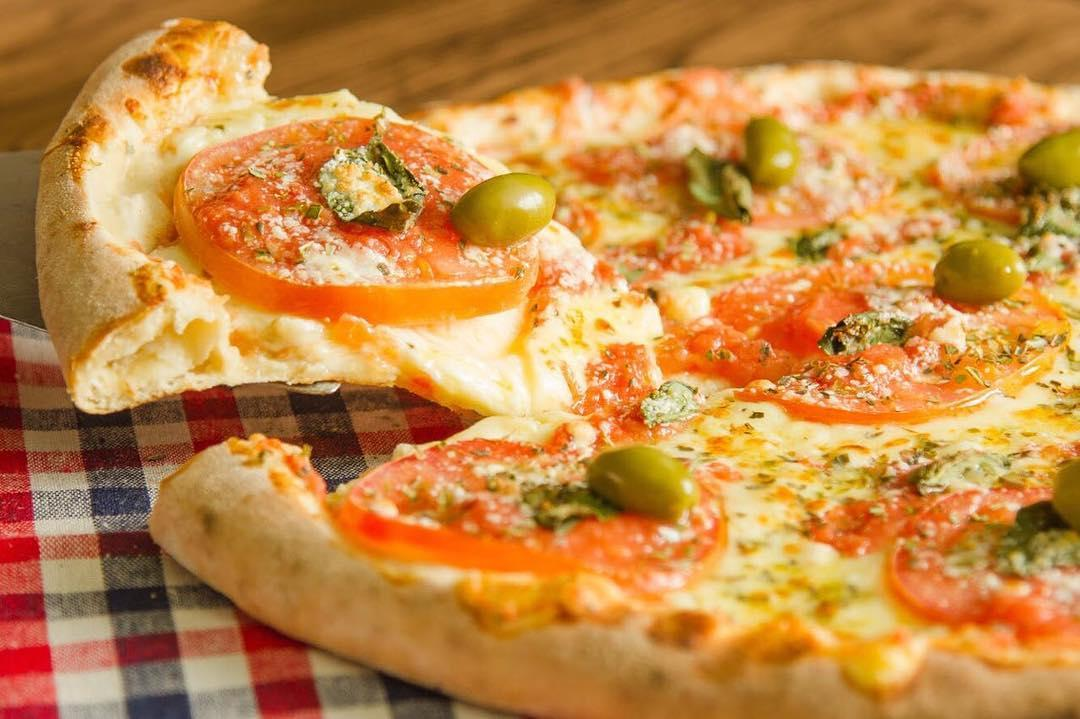Arugula: (316, 148, 421, 237), (983, 491, 1080, 575), (673, 148, 744, 217), (513, 478, 606, 529), (813, 306, 916, 347)
Olives: (456, 166, 554, 247), (926, 228, 1028, 305), (588, 450, 696, 521), (745, 108, 812, 183), (1011, 135, 1080, 191)
Pizza: (35, 18, 1080, 719)
Tomatoes: (166, 108, 554, 317), (700, 261, 1050, 415), (343, 426, 720, 557), (558, 130, 830, 277), (876, 463, 1080, 635)
